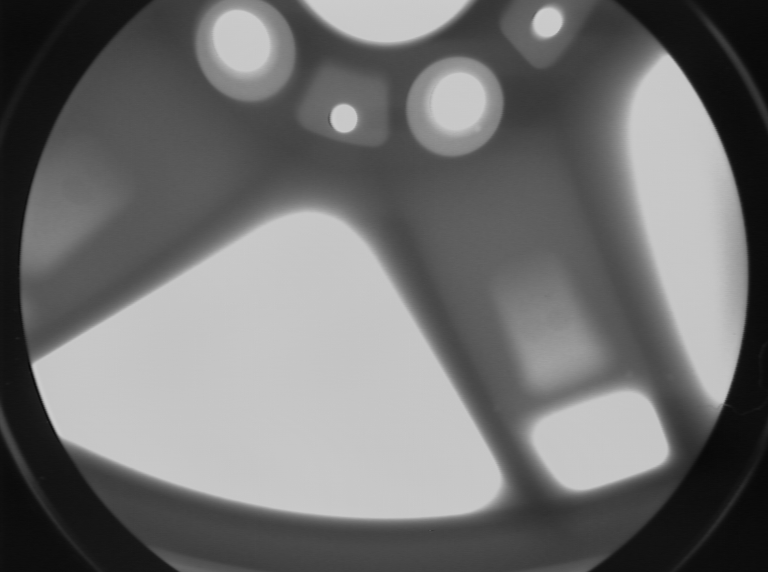defect: (487, 398, 506, 418)
